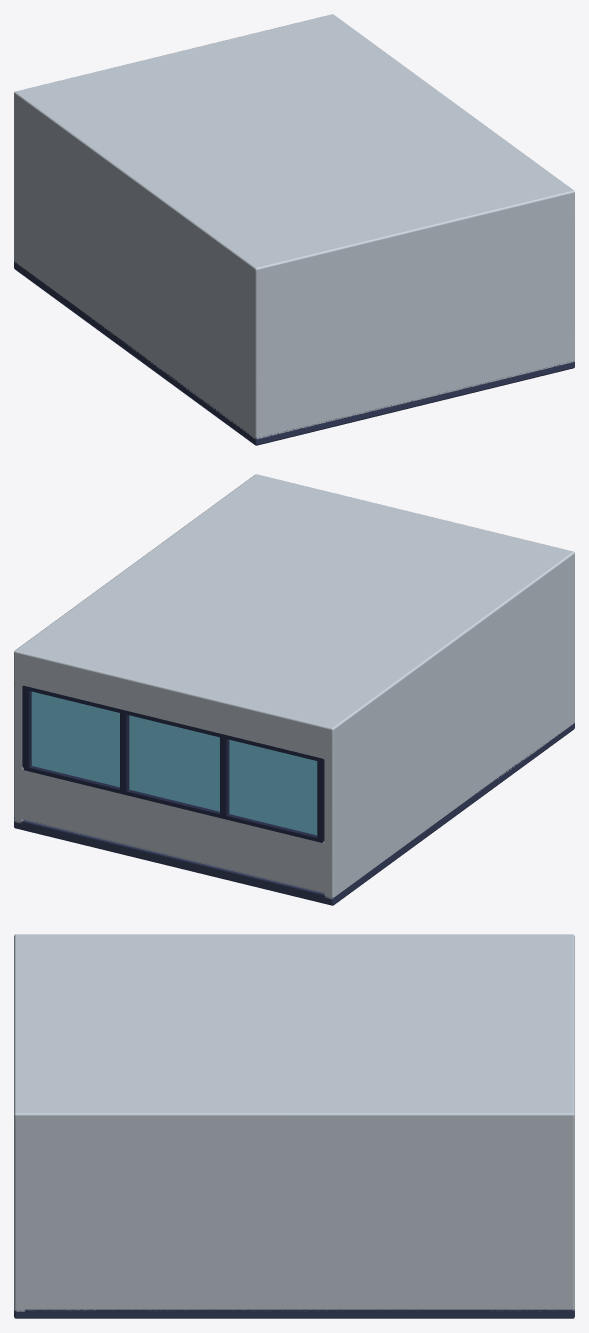
Rendered from cabina.glb.
3 views of the same model, one above another, from view 1: azimuth 30°, elevation 25°; view 2: azimuth 150°, elevation 25°; view 3: azimuth 270°, elevation 25° (orthographic). The views are drawn at different scales.
Visible parts, largest first — view 1: techo-col, pared_tras-col, pared_izq-col, piso-col, pared_der-col; view 2: techo-col, pared_izq-col, ventana_vidrio, pared_frente_baja-col, pared_frente_alta-col, piso-col, ventana_marco_bajo, ventana_marco_alto, pared_der-col, ventana_marco_3, ventana_marco_2, ventana_marco_1 (+1 smaller); view 3: techo-col, pared_der-col, piso-col, pared_tras-col, pared_frente_baja-col.
Part boxes in pixels (<box>): techo-col: <box>14,14,574,276</box>; pared_tras-col: <box>251,198,573,438</box>; pared_izq-col: <box>14,103,263,438</box>; piso-col: <box>14,261,574,445</box>; pared_der-col: <box>567,198,574,361</box>; techo-col: <box>14,474,574,736</box>; pared_izq-col: <box>324,559,574,899</box>; ventana_vidrio: <box>31,691,317,835</box>; pared_frente_baja-col: <box>14,768,337,893</box>; pared_frente_alta-col: <box>14,658,337,760</box>; piso-col: <box>14,723,574,905</box>; ventana_marco_bajo: <box>23,766,323,842</box>; ventana_marco_alto: <box>24,686,322,761</box>; pared_der-col: <box>14,659,23,823</box>; ventana_marco_3: <box>22,686,31,767</box>; ventana_marco_2: <box>120,710,129,791</box>; ventana_marco_1: <box>220,735,229,815</box>; techo-col: <box>14,934,574,1123</box>; pared_der-col: <box>14,1121,574,1311</box>; piso-col: <box>14,1309,574,1318</box>; pared_tras-col: <box>14,1121,24,1311</box>; pared_frente_baja-col: <box>564,1249,574,1305</box>.
Bounding box in the file's own units: 6.4 × 3.4 × 8.4.
